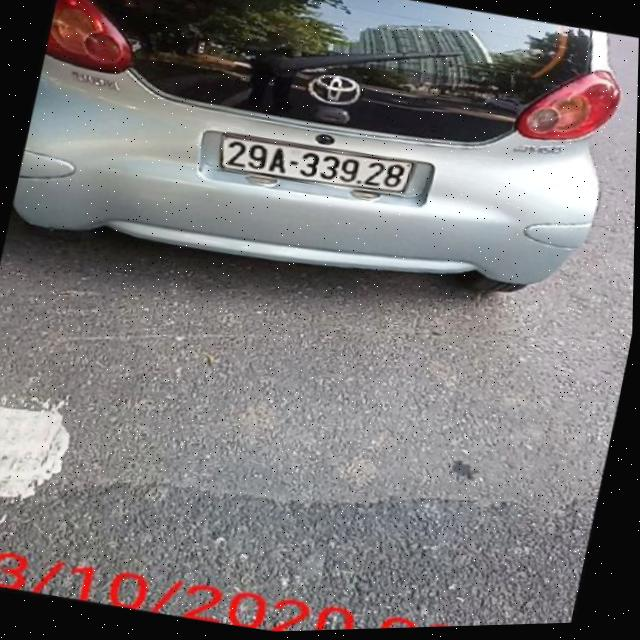car: (10, 0, 636, 340)
plate: (210, 120, 426, 211)
